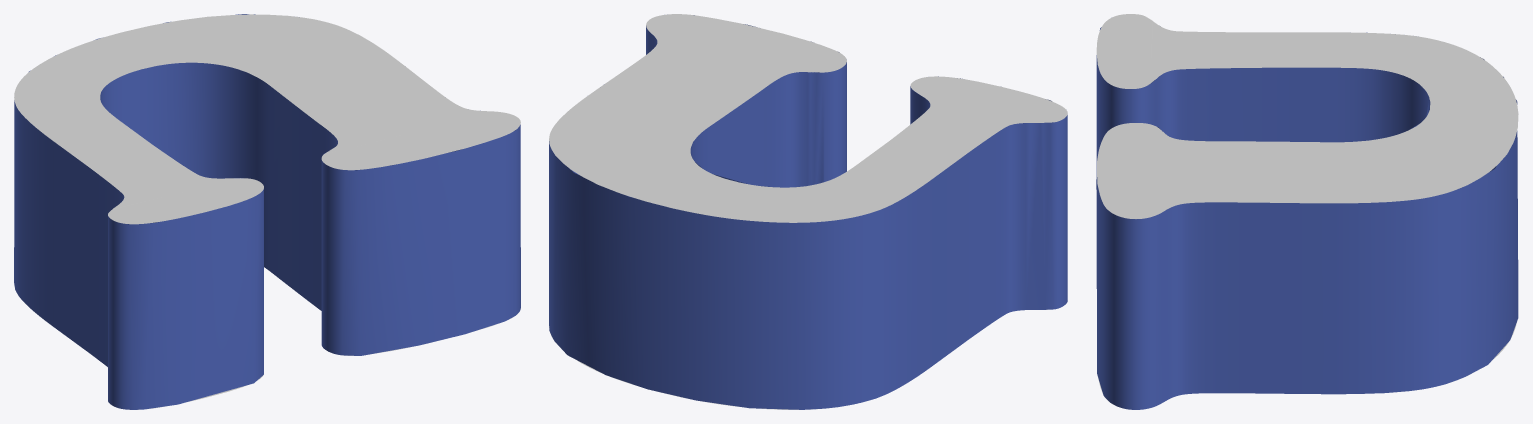
3 views of the same model, side by side, from view 1: azimuth 30°, elevation 25°; view 2: azimuth 150°, elevation 25°; view 3: azimuth 270°, elevation 25° (orthographic). The views are drawn at different scales.
Visible parts, largest first — view 1: U; view 2: U; view 3: U.
Boxes of the visible parts, box(x1,y1,x2,y2) form: U: box(14, 14, 520, 409); U: box(549, 14, 1067, 409); U: box(1096, 14, 1518, 409).
Bounding box in the file's own units: 1.7 × 0.7361 × 1.48.
